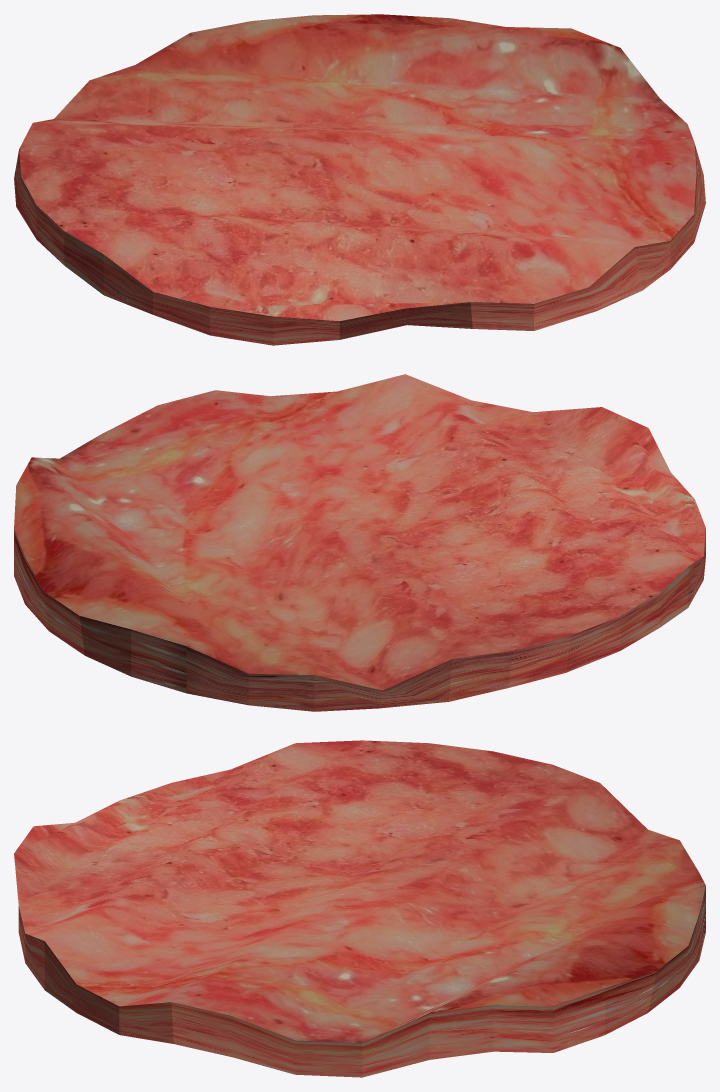
The model's file is salami_1.glb.
The picture shows the model from 3 angles, top to bottom: view 1: azimuth 30°, elevation 25°; view 2: azimuth 150°, elevation 25°; view 3: azimuth 270°, elevation 25°; orthographic projection.
Visible parts, largest first — view 1: Cylinder.001; view 2: Cylinder.001; view 3: Cylinder.001.
Boxes of the visible parts, x1=… form: Cylinder.001: x1=14, y1=14, x2=705, y2=345; Cylinder.001: x1=14, y1=374, x2=705, y2=711; Cylinder.001: x1=14, y1=740, x2=705, y2=1077.
Size of the model in its own units: 0.1805 by 0.0178 by 0.1817.
Materials: 1 (1 with a texture image).
